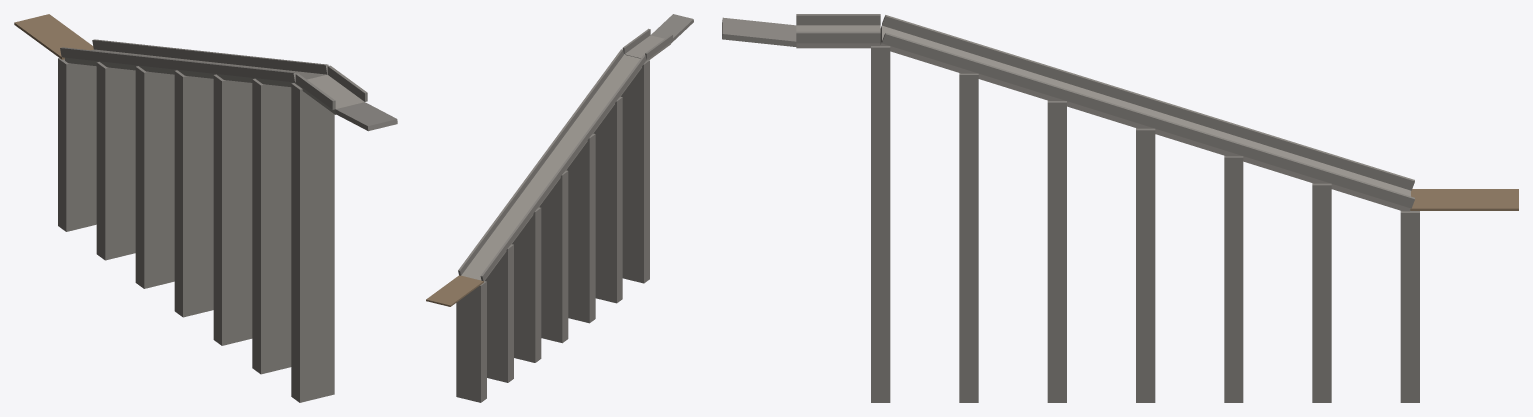
The model's file is ash_landing_vent_col.glb.
3 renders of one model, left to right at view 1: azimuth 30°, elevation 25°; view 2: azimuth 150°, elevation 25°; view 3: azimuth 270°, elevation 25°, orthographic. The views are drawn at different scales.
Parts seen in each view (by area): view 1: geometry_0; view 2: geometry_0; view 3: geometry_0.
Boxes of the visible parts, <box> form: geometry_0: <box>14,14,397,402</box>; geometry_0: <box>426,14,693,402</box>; geometry_0: <box>722,14,1518,402</box>.
Bounding box in the file's own units: 3.8 × 33.83 × 66.1.
